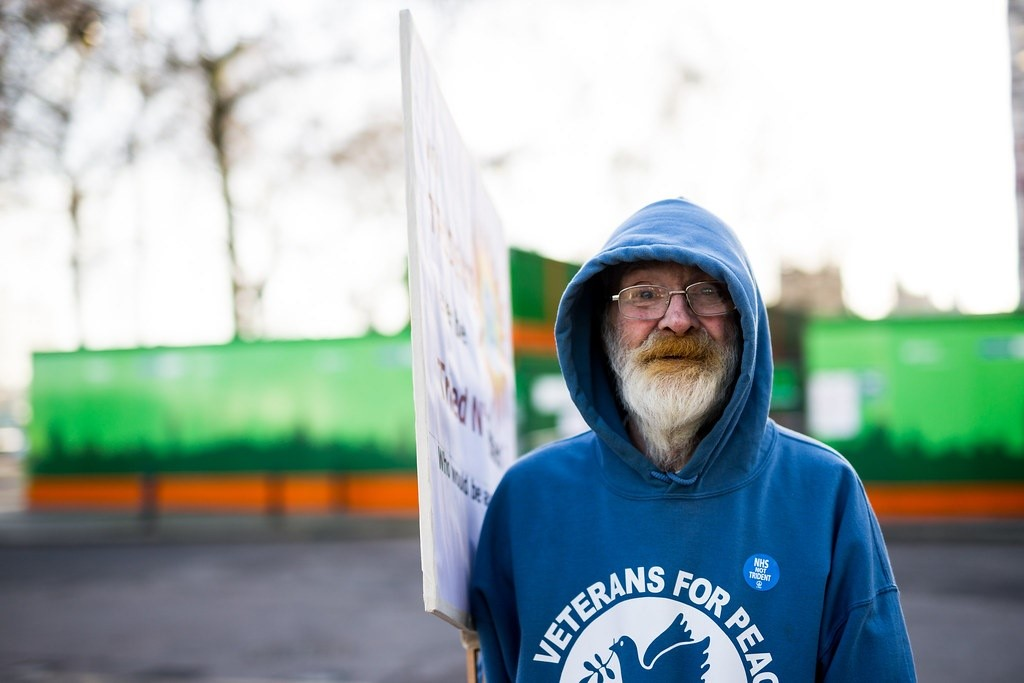face_no_mask: (596, 230, 751, 424)
